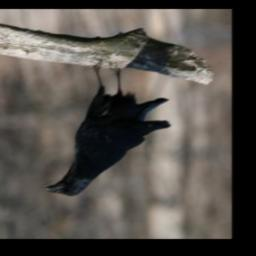Crow: (44, 57, 171, 199)
